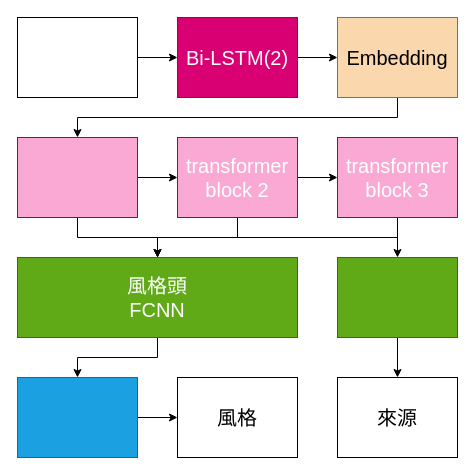
Image size: 475x475. Some labels were removed from this diagram. The box of each missing label's shape, as (x1, y1, x2, y2) in pixels:
1D CNN 平滑化輸出: (16, 376, 138, 458)
transformer block 1: (16, 136, 138, 218)
來源頭 FCNN: (336, 256, 458, 338)
鋼琴捲簾: (16, 16, 138, 98)
